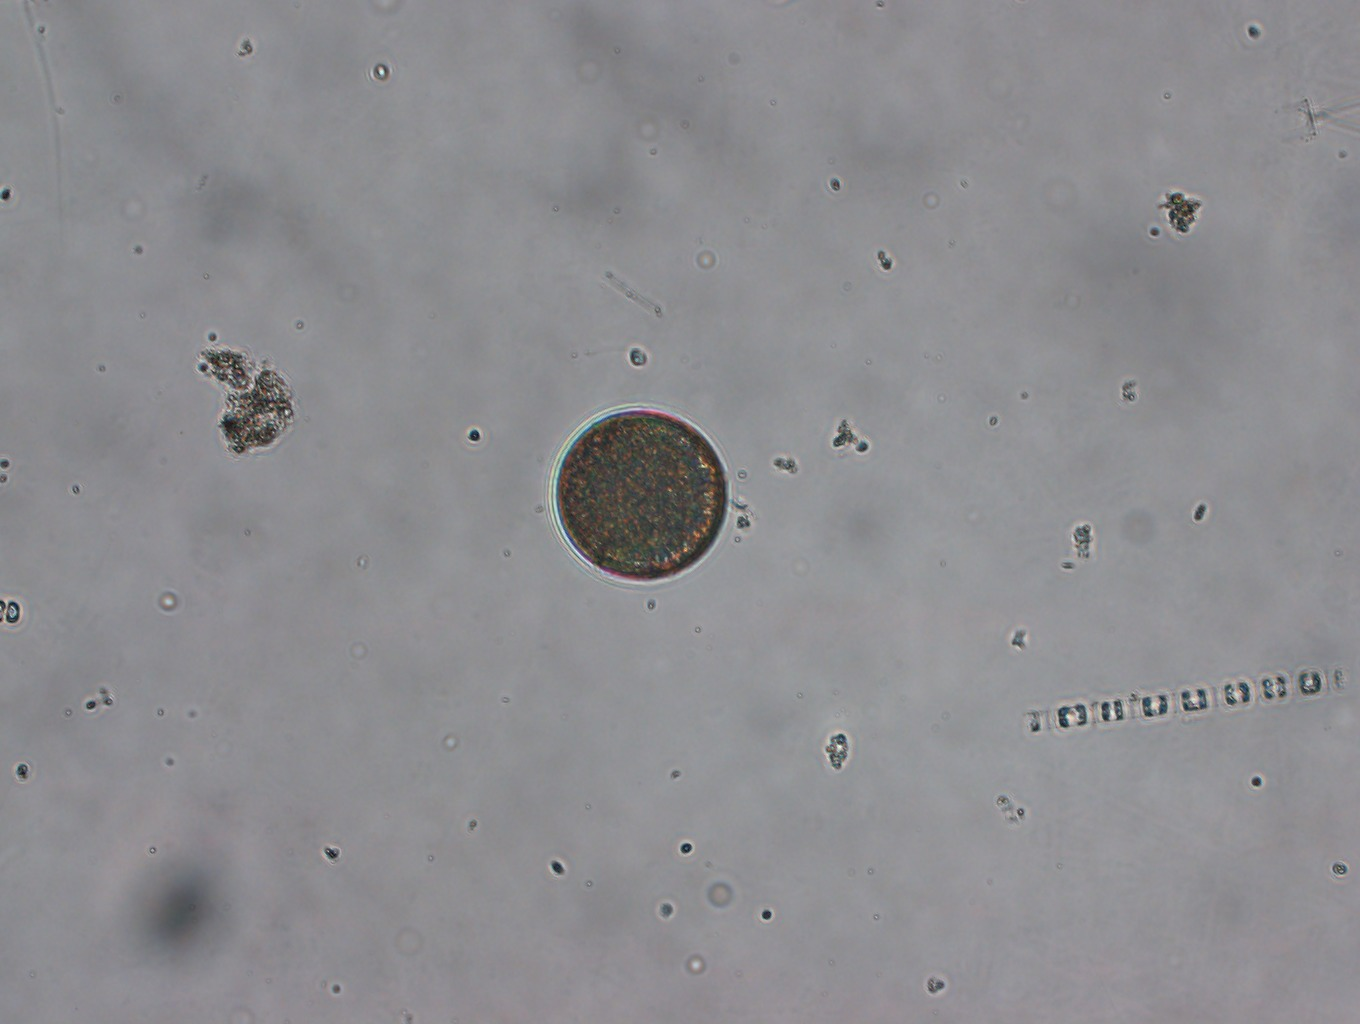coscinodiscus: (547, 403, 731, 589)
skeletonema: (1020, 664, 1360, 736)
